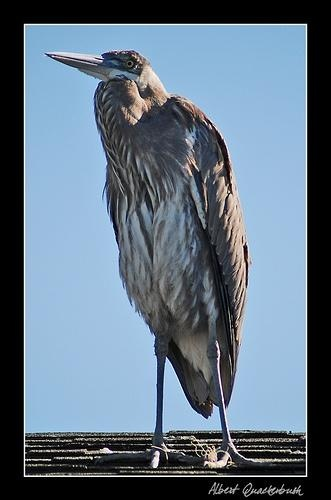bird: (42, 48, 278, 471)
